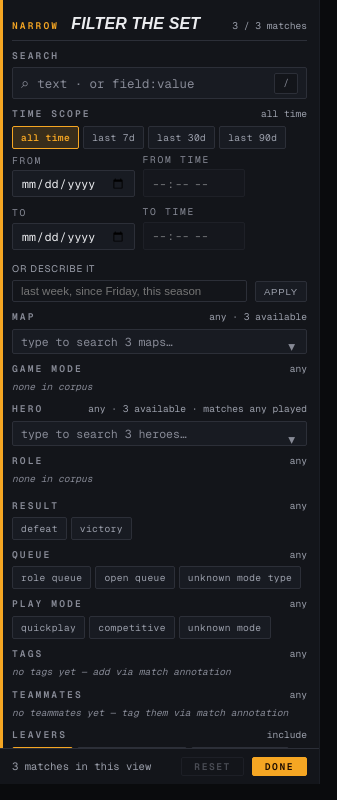
NarrowPopover — rail mode › the Maps caret opens its dropdown and closes it again
Click the button named "Open Maps list" at (292, 348), box [280,337,303,358]
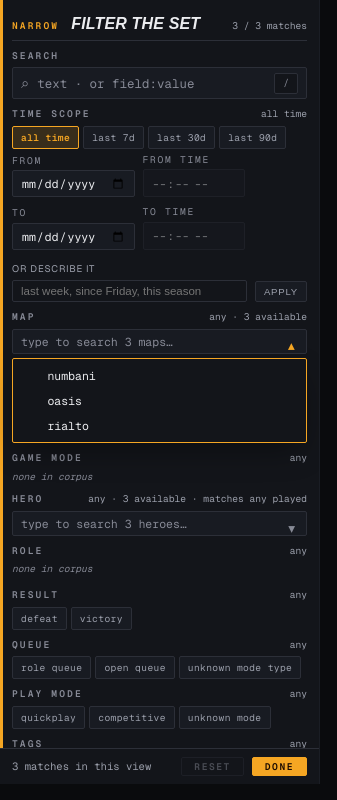
Check: the list named "Maps" is shown, box [12,358,307,443]
Click the button named "Close Maps list" at (292, 348), box [280,337,303,358]
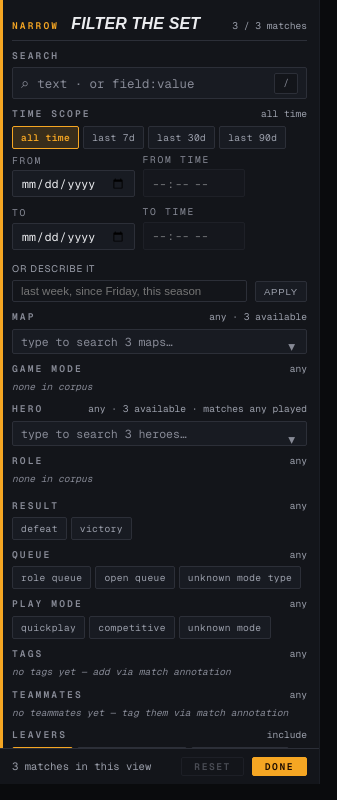
Check: the list "numbani oasis rialto" is gone
